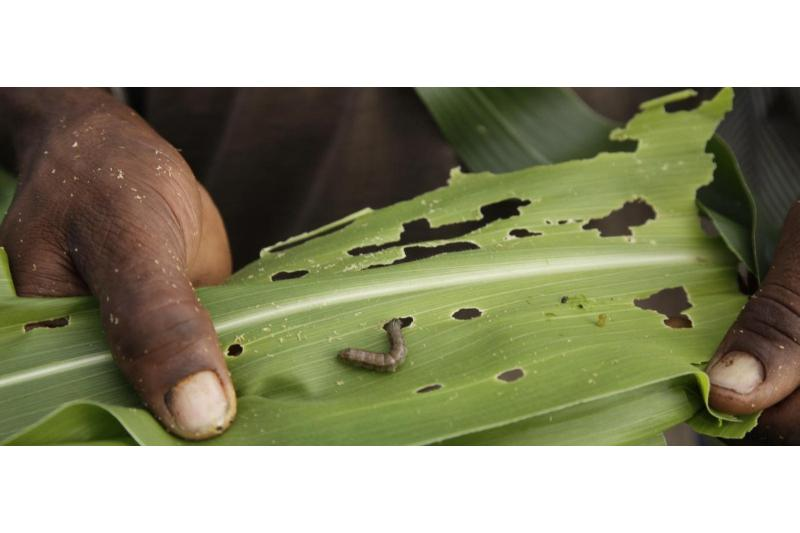fall-armyworm: (338, 318, 409, 374)
